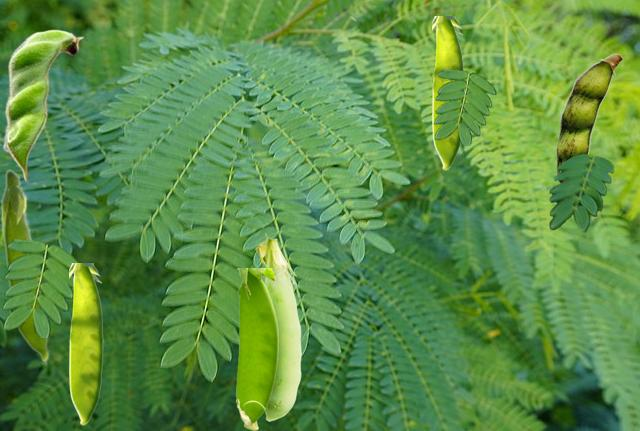pea: (2, 29, 83, 182), (0, 168, 49, 364), (556, 53, 622, 182), (255, 233, 300, 420), (236, 268, 277, 429), (69, 263, 102, 424), (432, 16, 463, 169)
